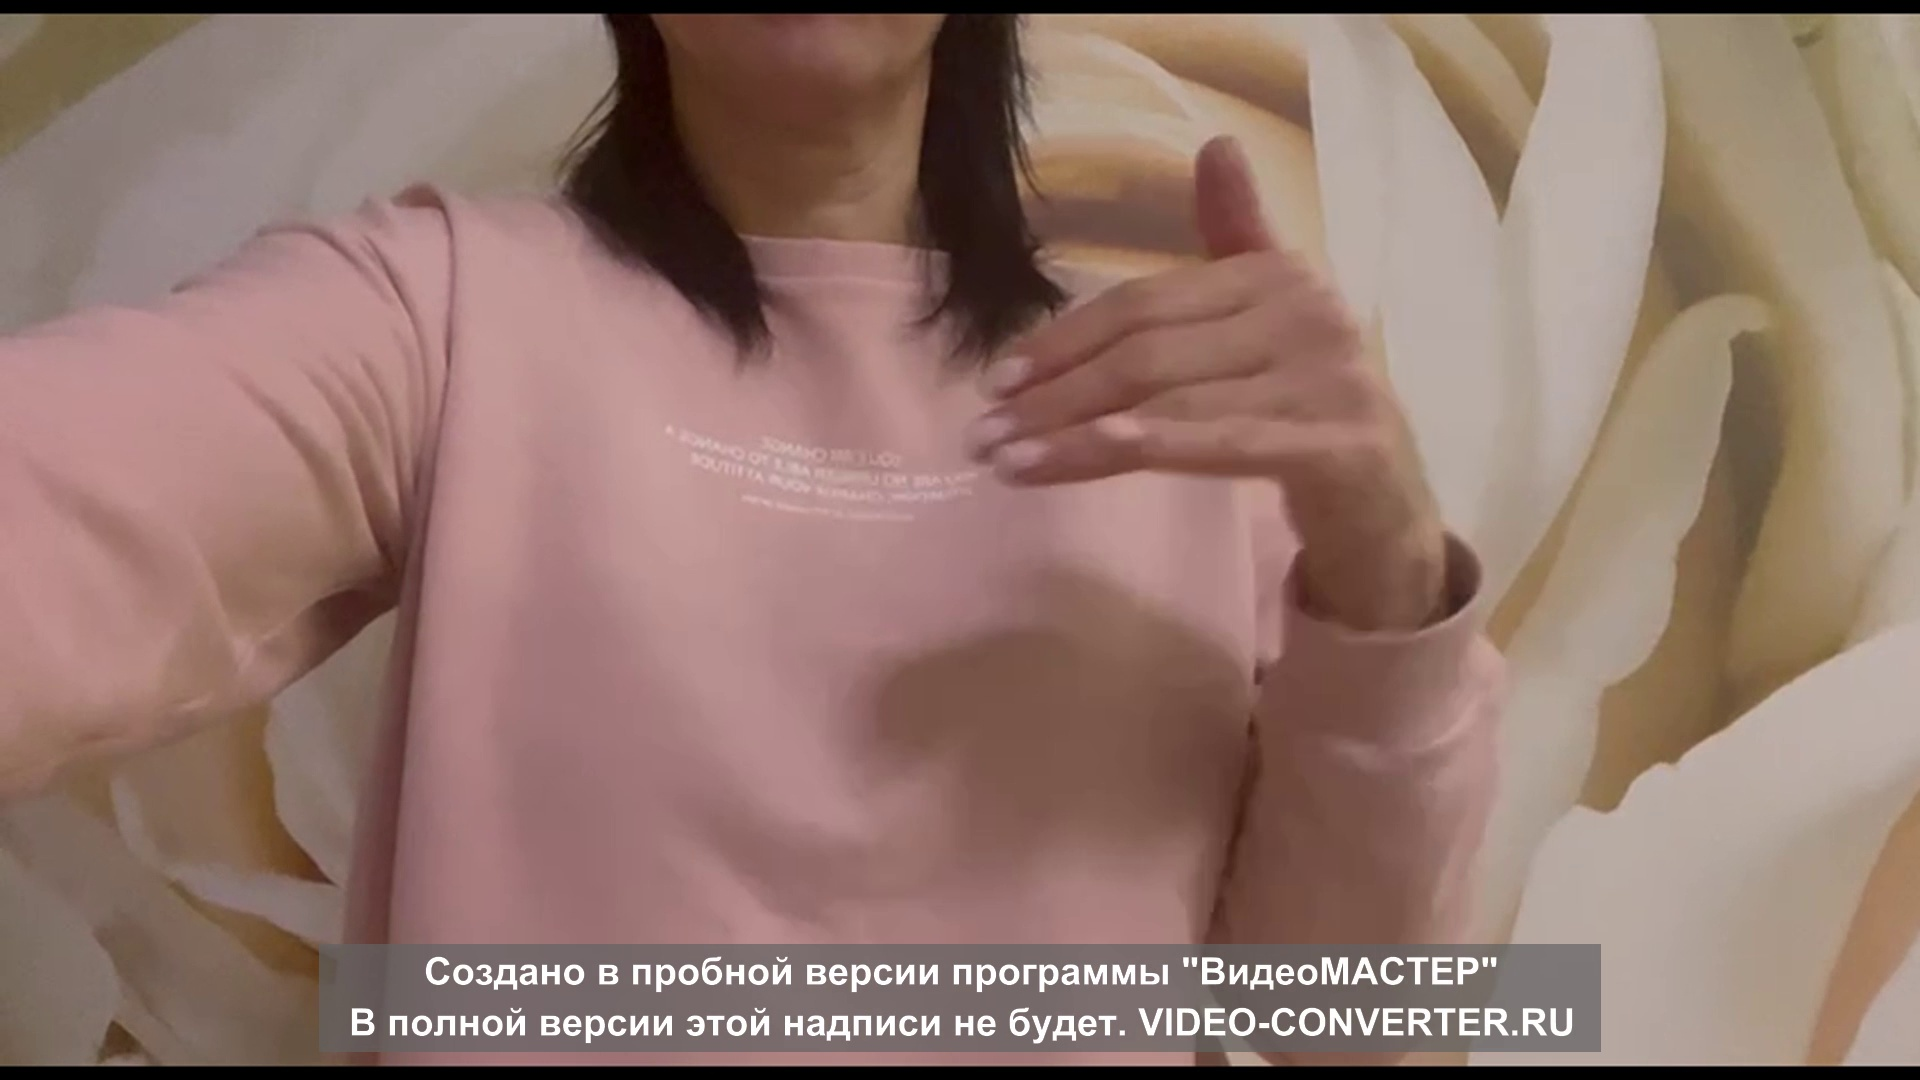Кисть: (961, 140, 1412, 554)
